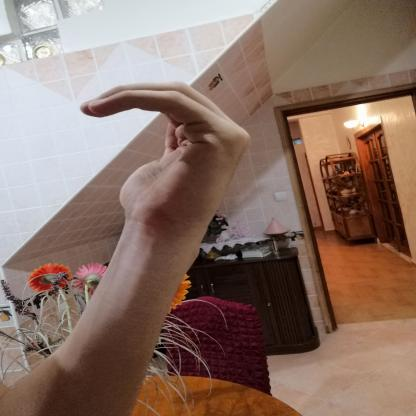HAA: (56, 68, 268, 244)
